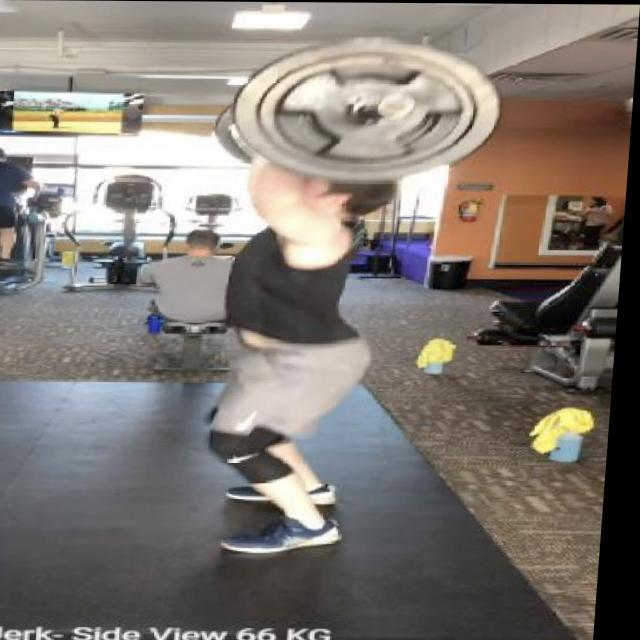barbell: (229, 32, 513, 185)
